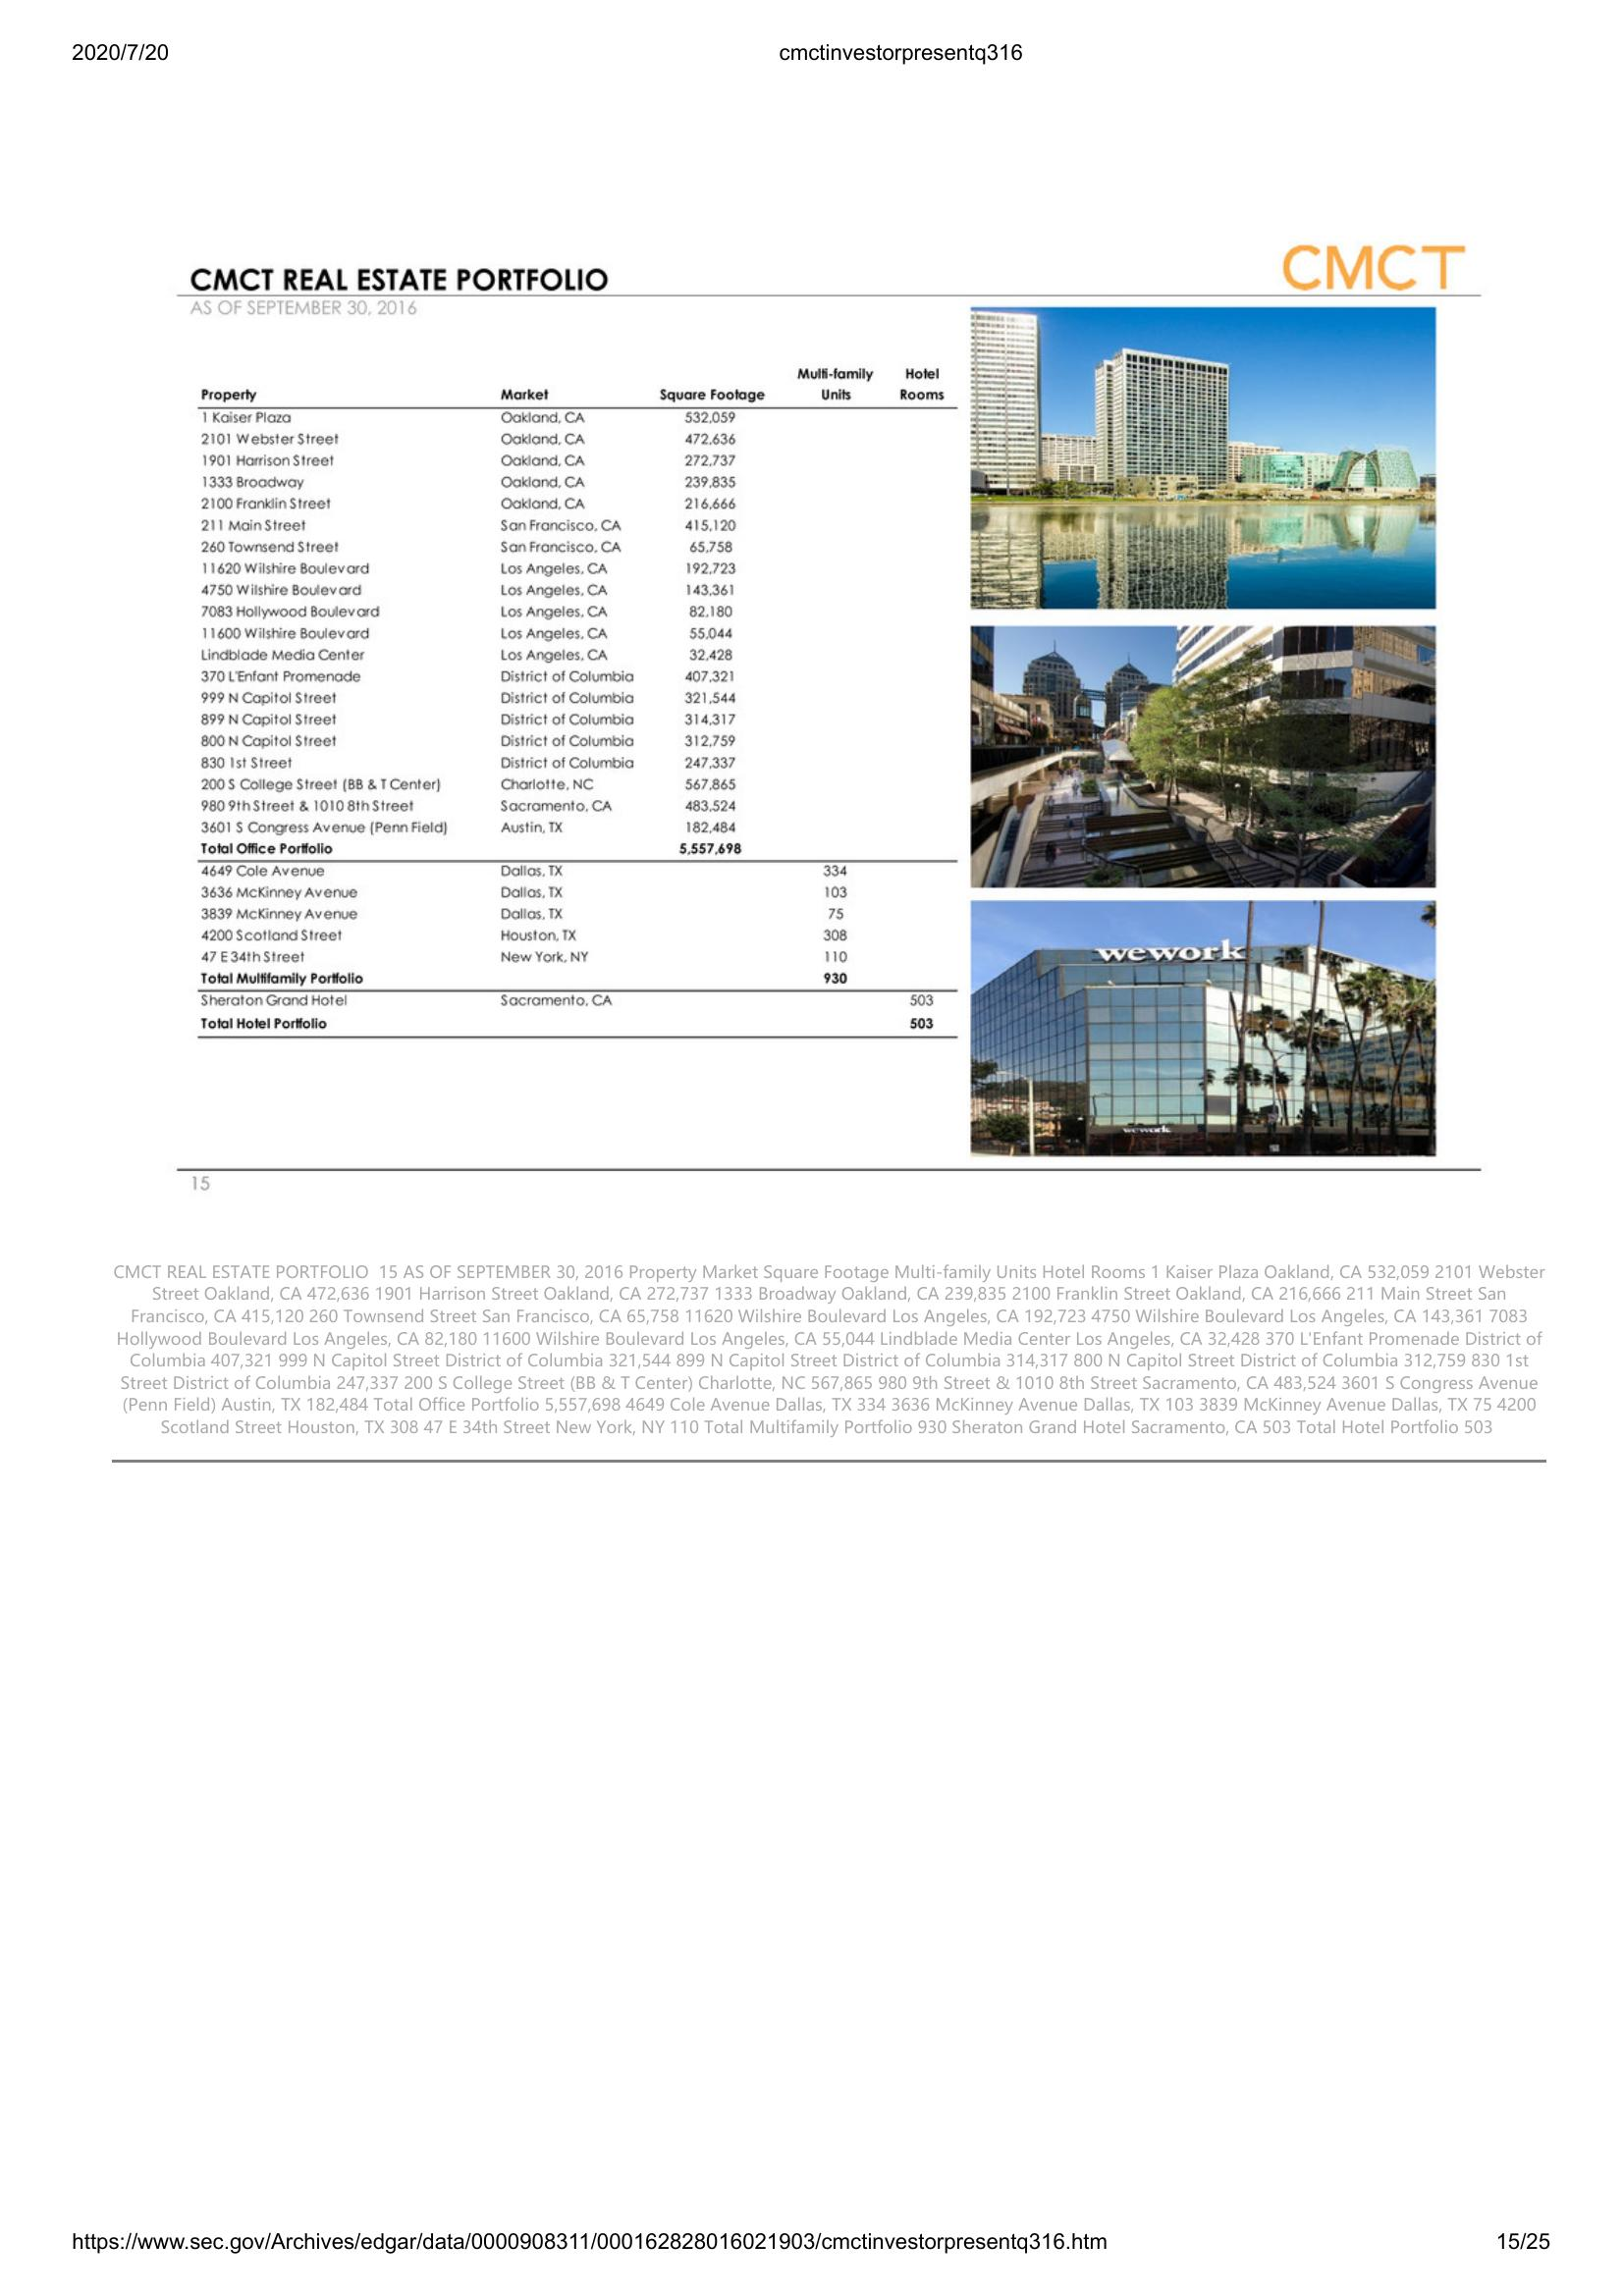table: (188, 363, 963, 1053)
